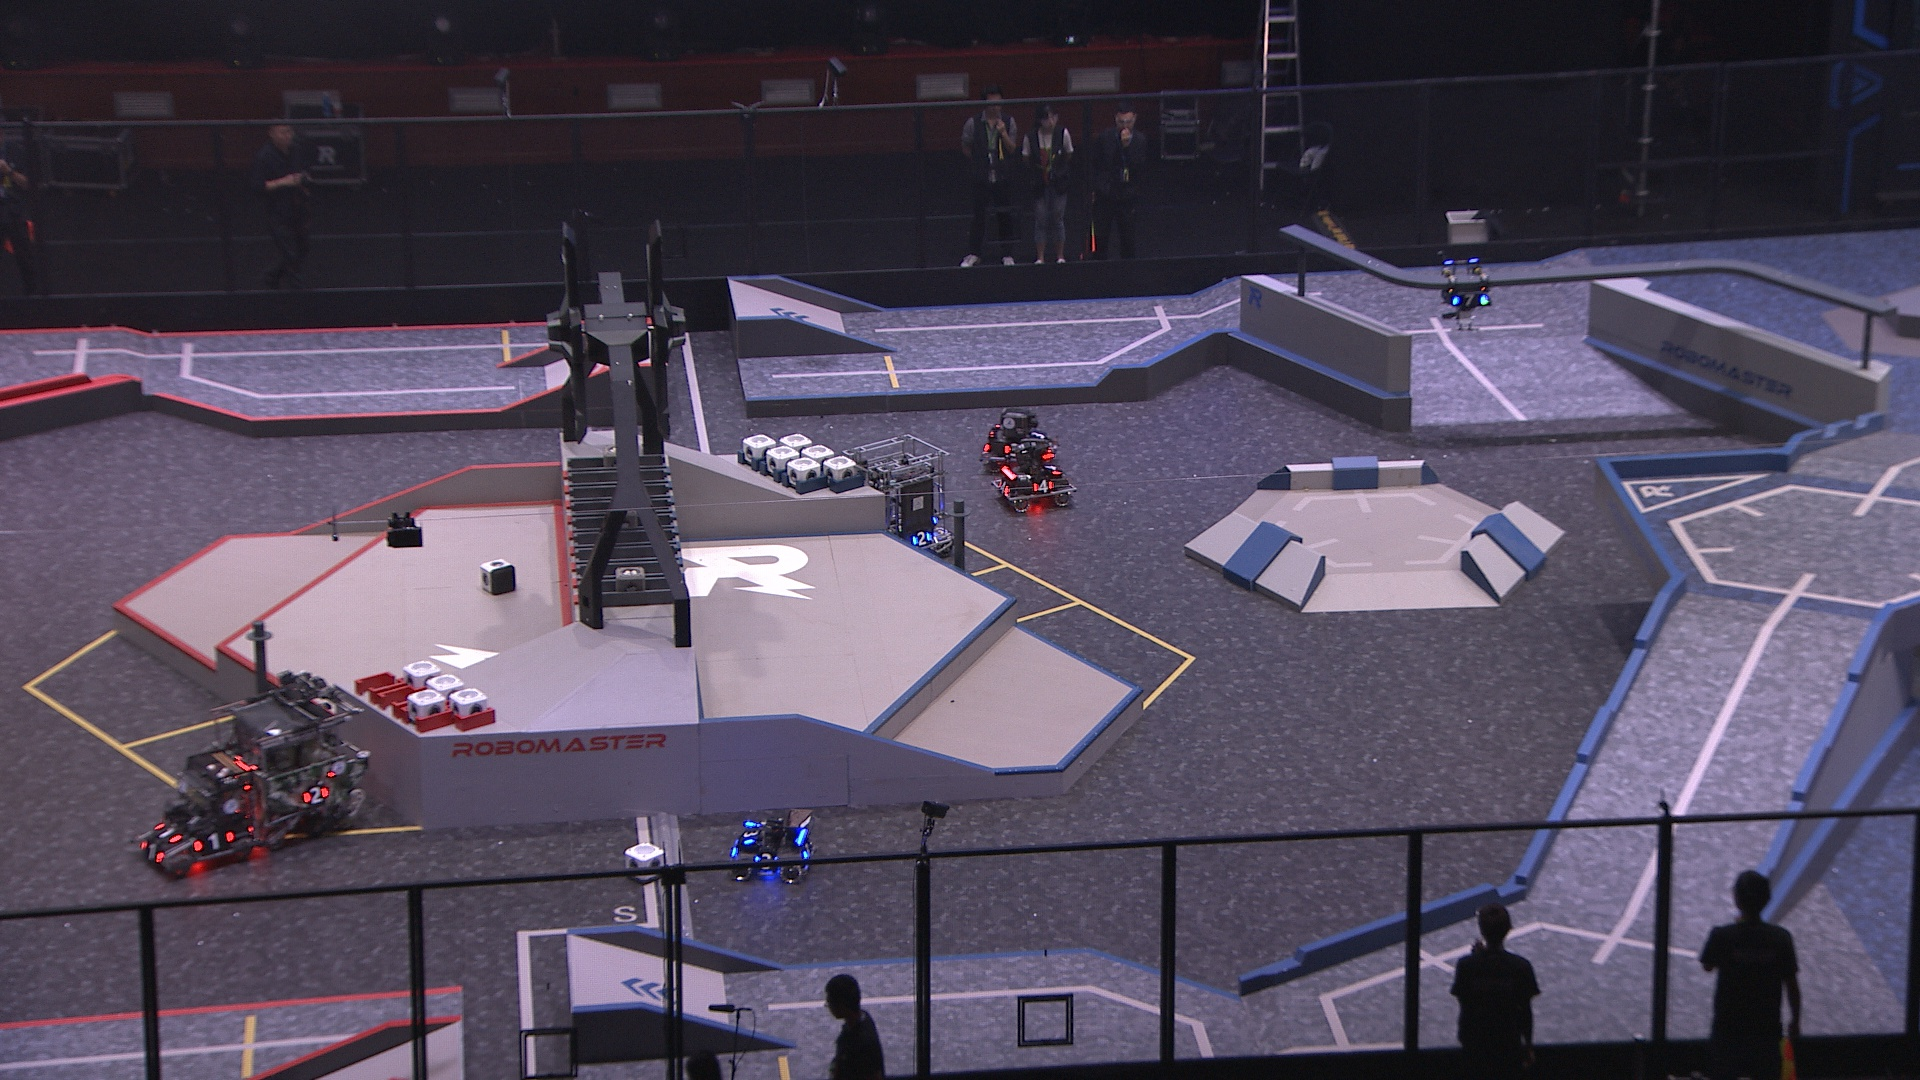armor: (187, 831, 237, 858), (148, 820, 186, 845), (138, 840, 167, 868), (1451, 291, 1493, 310), (301, 785, 328, 807), (1030, 475, 1058, 496), (740, 818, 760, 847), (909, 527, 935, 547), (752, 853, 779, 872), (993, 477, 1015, 500), (1000, 440, 1027, 458), (795, 840, 818, 860), (1044, 462, 1064, 476)
car: (214, 680, 375, 853), (133, 738, 272, 882), (836, 434, 951, 560), (724, 808, 818, 891), (989, 438, 1081, 514), (975, 404, 1055, 472)
watcher: (1432, 249, 1494, 334)
